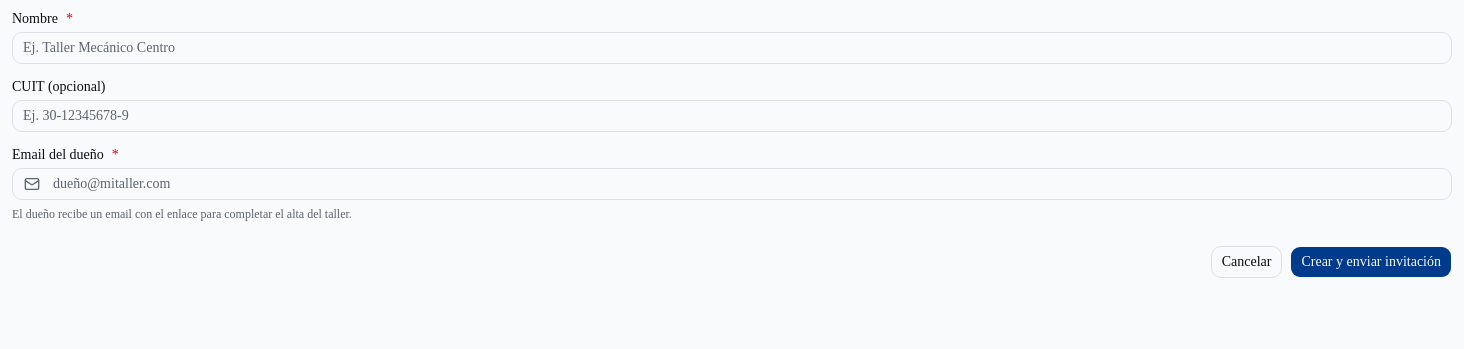
it: CreateAdminWorkshopForm › submit válido: crea, muestra banner e invalida/redirige
The image size is (1464, 349).
In the field labelled "Nombre *": (732, 48) [12,32,1452,64], type "Taller Mecánico Centro"
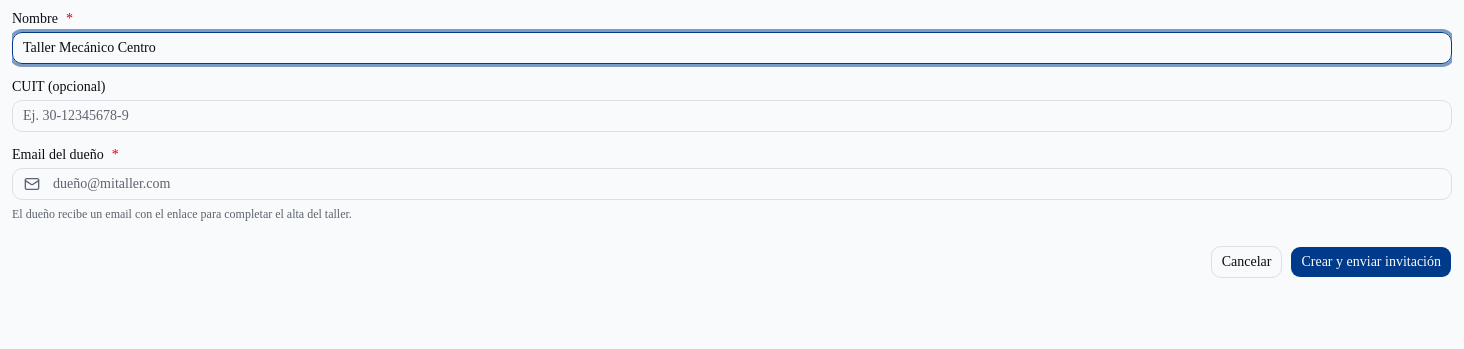
In the field labelled "CUIT (opcional)": (732, 116) [12,100,1452,132], type "30-12345678-9"
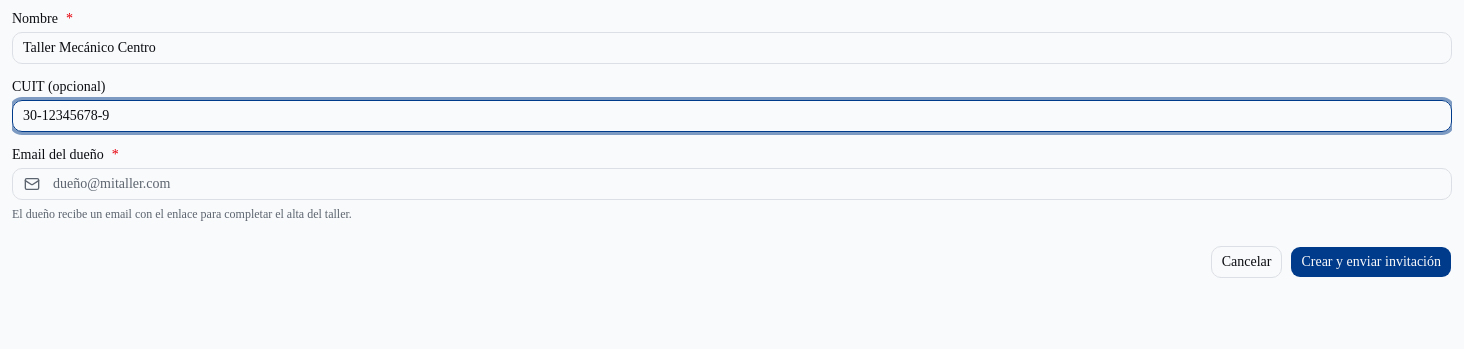
In the field labelled "Email del dueño *": (732, 184) [12,168,1452,200], type "dueno@taller.com"
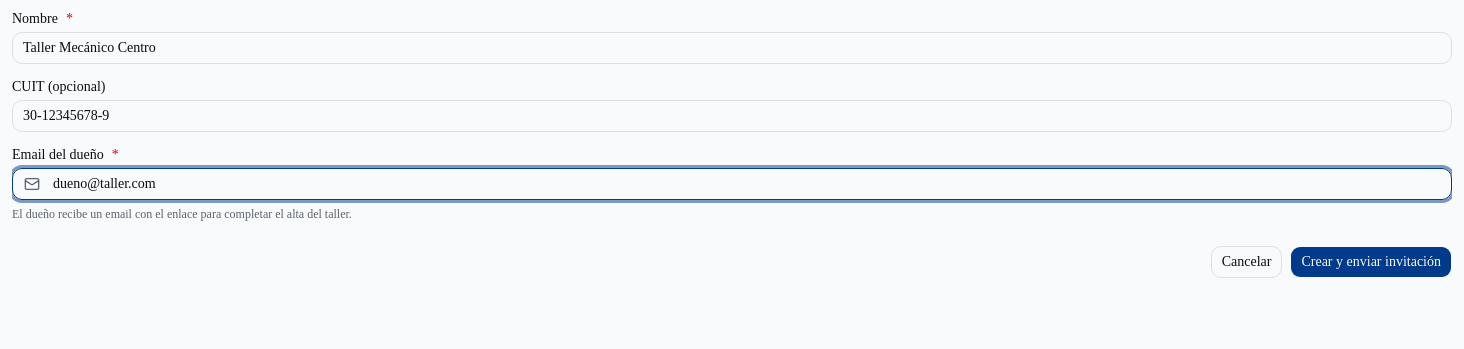
Click the button "Crear y enviar invitación": (1371, 262) [1290,246,1452,278]
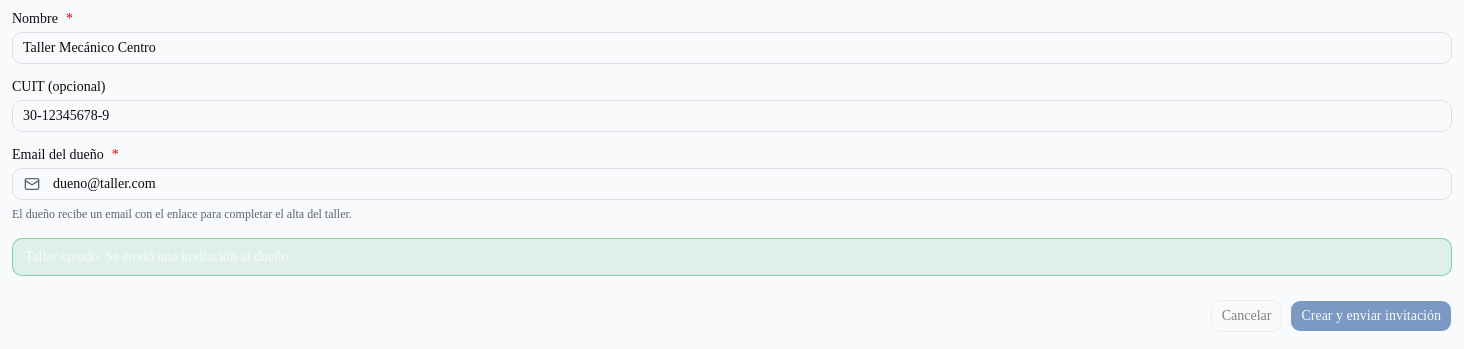
Result: the message shows "Se envió una invitación al dueño" at [25,249,292,264]
